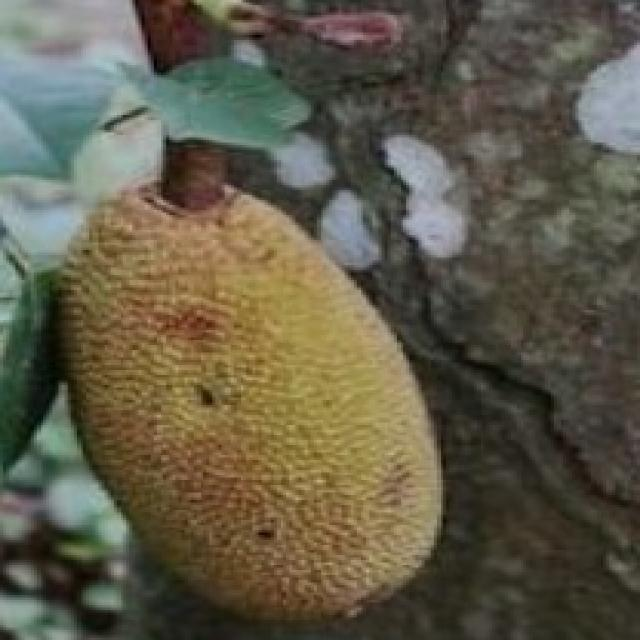Fruit: (203, 225, 486, 640)
